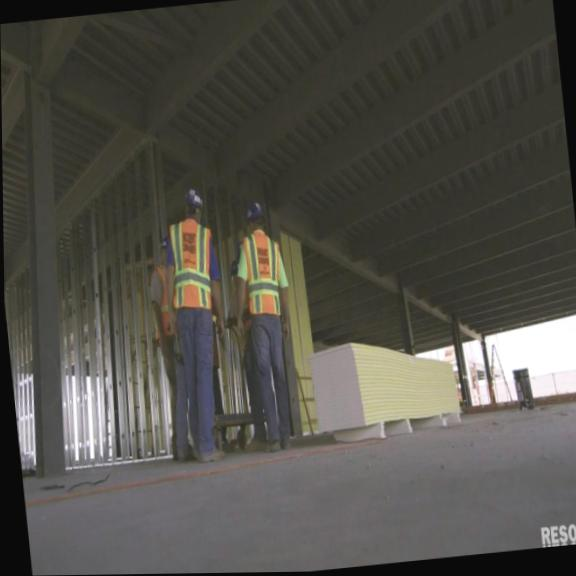safety_vest: (165, 214, 220, 313), (238, 227, 286, 320), (149, 263, 179, 341)
